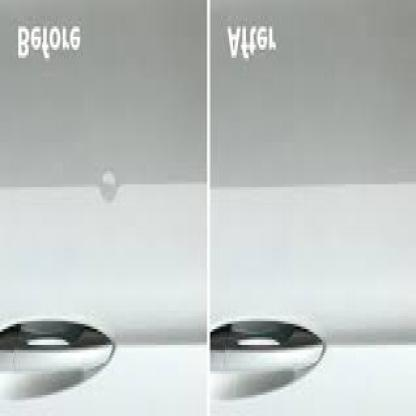dent: (93, 162, 125, 210)
